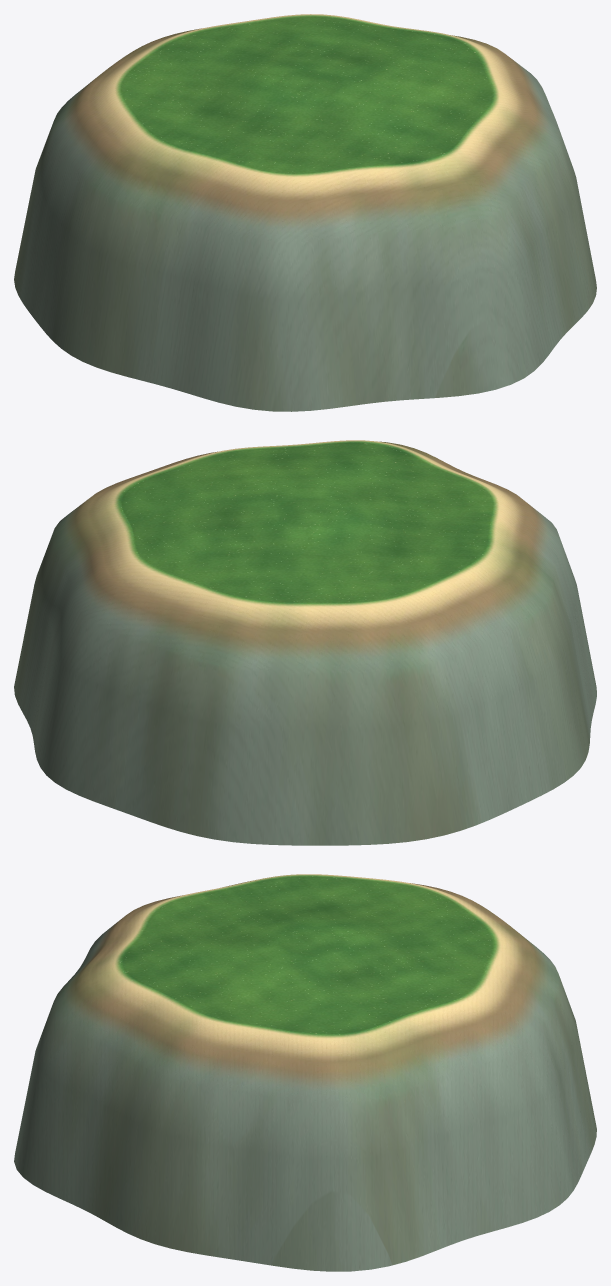
File: flat_0.glb
3 renders of one model, top to bottom at view 1: azimuth 30°, elevation 25°; view 2: azimuth 150°, elevation 25°; view 3: azimuth 270°, elevation 25°, orthographic. The views are drawn at different scales.
Parts seen in each view (by area): view 1: flat_0; view 2: flat_0; view 3: flat_0.
Boxes of the visible parts, <box> form: flat_0: <box>14,14,596,411</box>; flat_0: <box>14,440,596,845</box>; flat_0: <box>14,874,596,1271</box>.
Bounding box in the file's own units: 32.03 × 12.23 × 31.89.
Materials: 1 (1 with a texture image).
